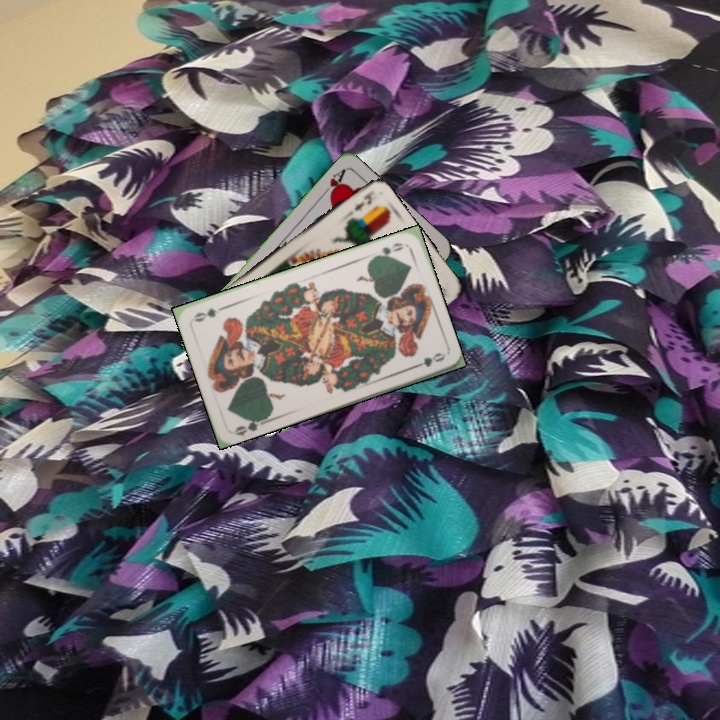EK: (350, 188, 375, 214)
GO: (230, 414, 269, 438), (369, 238, 406, 261)
HA: (317, 165, 348, 200)
